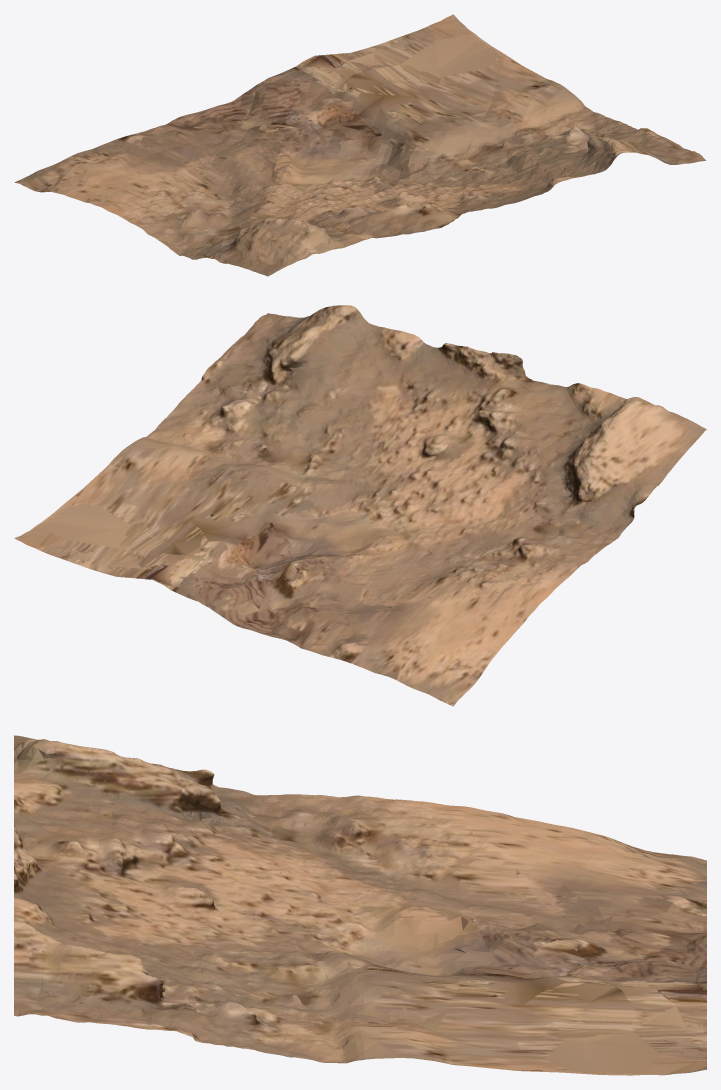
3 views of the same model, one above another, from view 1: azimuth 30°, elevation 25°; view 2: azimuth 150°, elevation 25°; view 3: azimuth 270°, elevation 25° (orthographic). The views are drawn at different scales.
Size of the model in its own units: 2.09 by 0.5839 by 2.09.
Materials: 3 (3 with a texture image).
